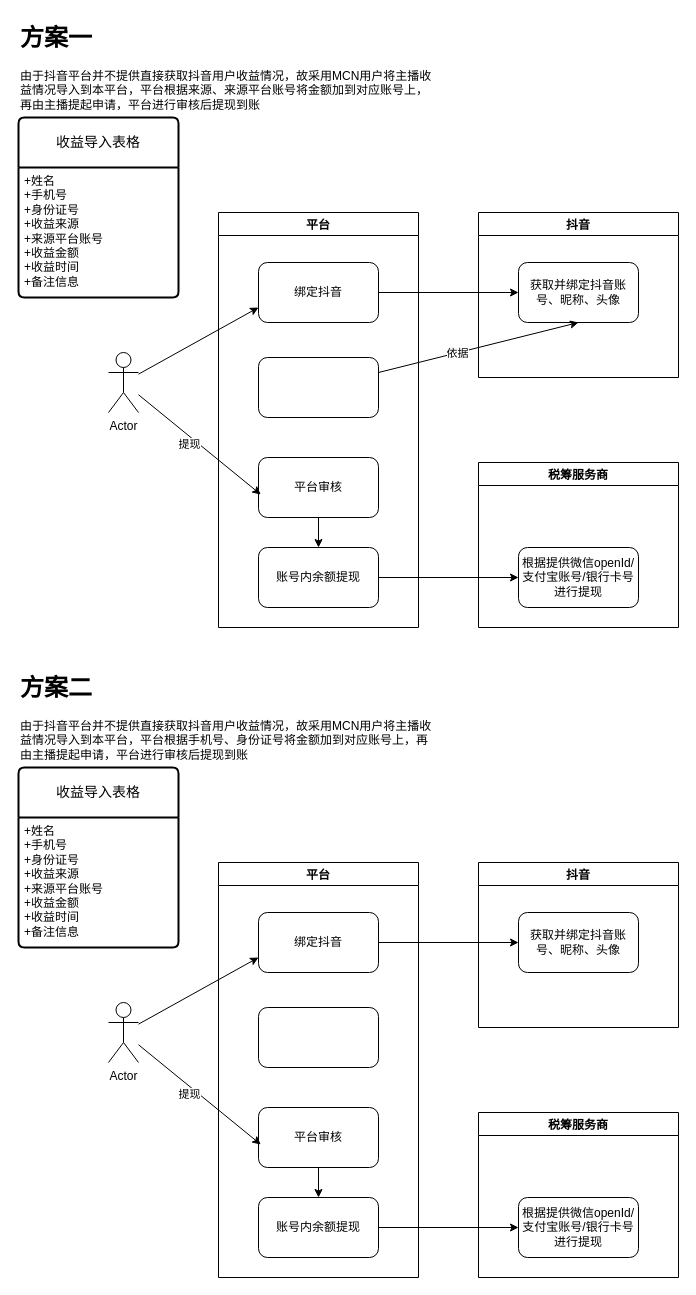
This 696x1295 diagram has some shape labels left out. The shapes that lost their labels are listed below. From the top down, each one's box as (x1, y1, x2, y2) in pixels, then its label:
(258, 356, 378, 418): 以表格中平台账号对应用户导入主播收益
(258, 1006, 378, 1068): 以表格中 手机号、身份证号 对应用户导入主播收益
